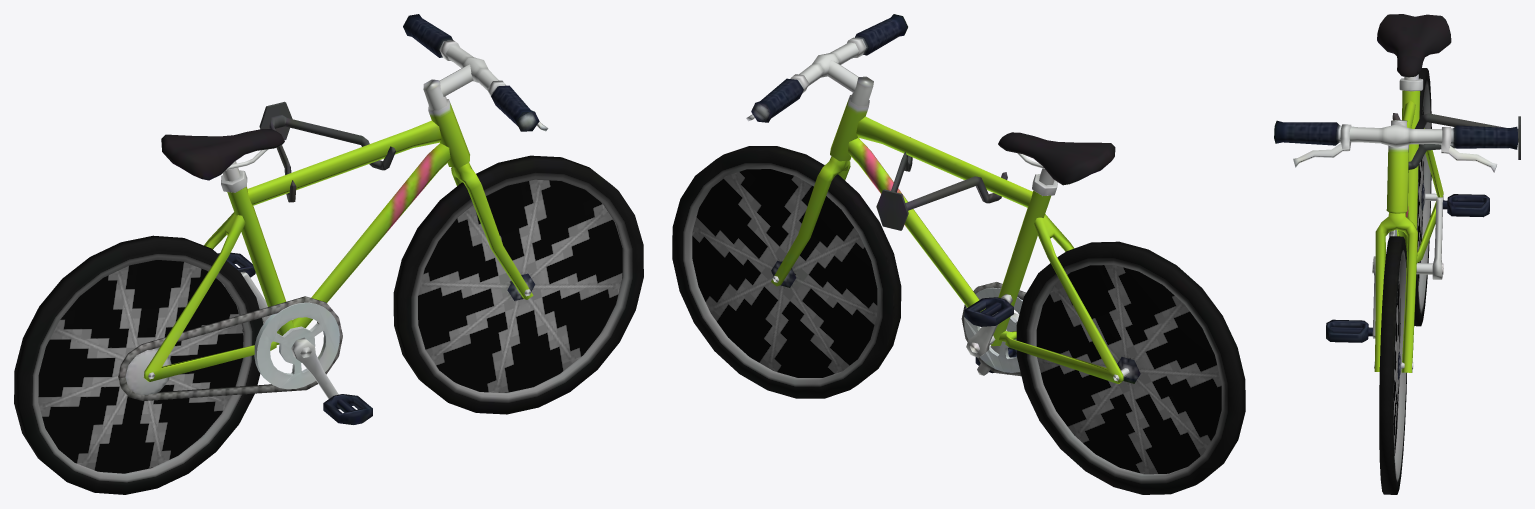
The picture shows the model from 3 angles, left to right: view 1: azimuth 30°, elevation 25°; view 2: azimuth 150°, elevation 25°; view 3: azimuth 270°, elevation 25°; orthographic projection. The views are drawn at different scales.
Size of the model in its own units: 17.29 by 9.81 by 6.51.
2 materials, 2 textured.
